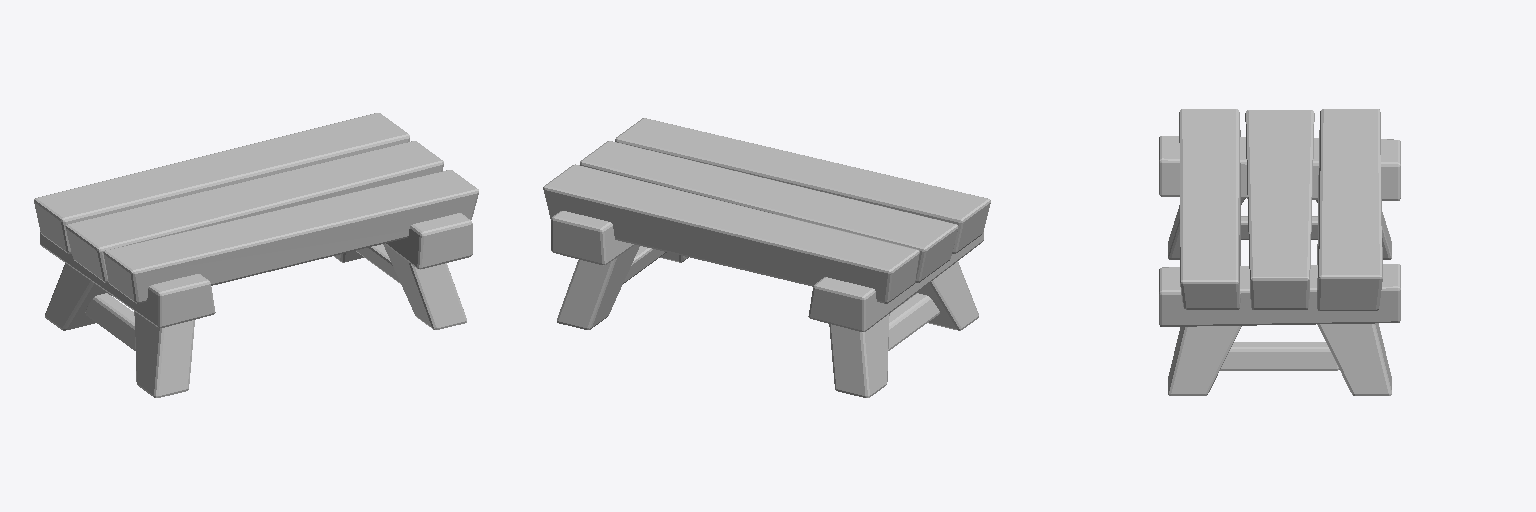
Rendered from tableMedium.obj.
3 views of the same model, side by side, from view 1: azimuth 30°, elevation 25°; view 2: azimuth 150°, elevation 25°; view 3: azimuth 270°, elevation 25° (orthographic).
Parts seen in each view (by area): view 1: tableMedium_Cube.2854; view 2: tableMedium_Cube.2854; view 3: tableMedium_Cube.2854.
Part boxes in pixels (left/top/right/bottom): tableMedium_Cube.2854: left=34, top=113, right=478, bottom=397; tableMedium_Cube.2854: left=543, top=118, right=990, bottom=397; tableMedium_Cube.2854: left=1159, top=109, right=1400, bottom=395.
Size of the model in its own units: 2 by 0.7075 by 1.2.